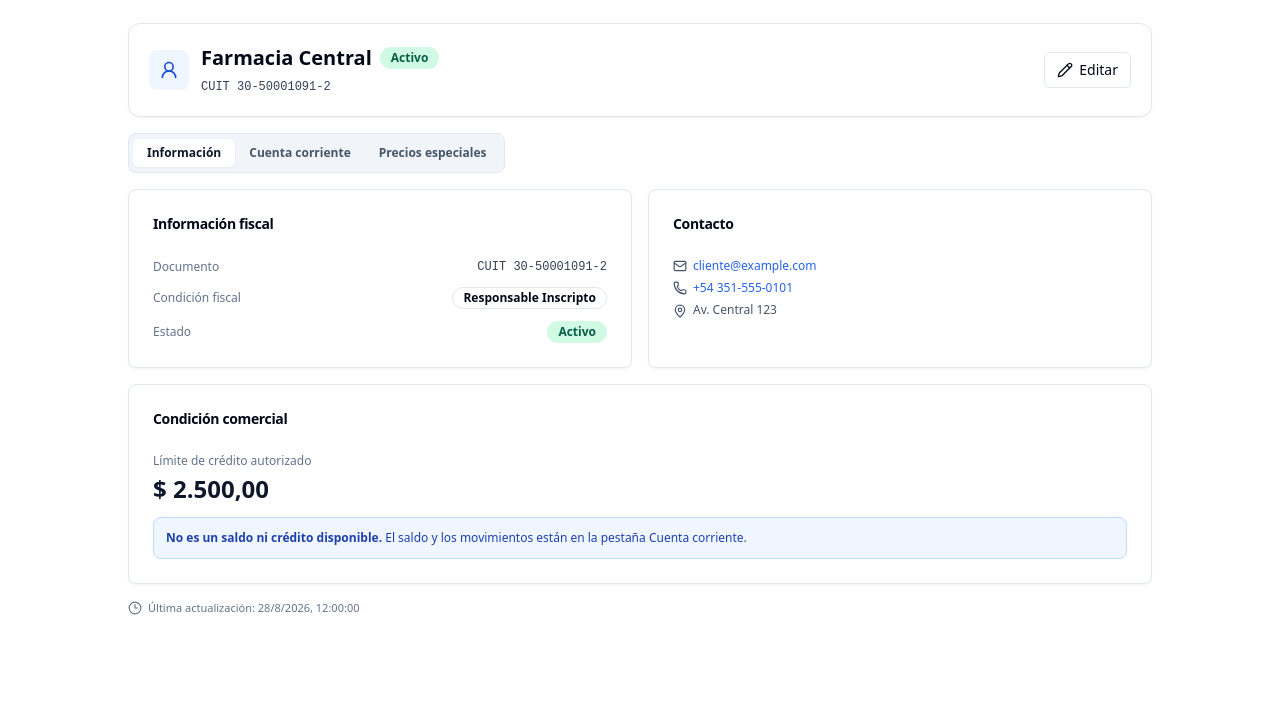
Test: CustomerDetailPage › shows the current account in its own tab, loaded on demand
expect the heading "Farmacia Central" is shown: met, box [201, 44, 372, 72]
Click the tab "Cuenta corriente".
click(300, 153)  # box [235, 139, 365, 167]
(page scrolled)
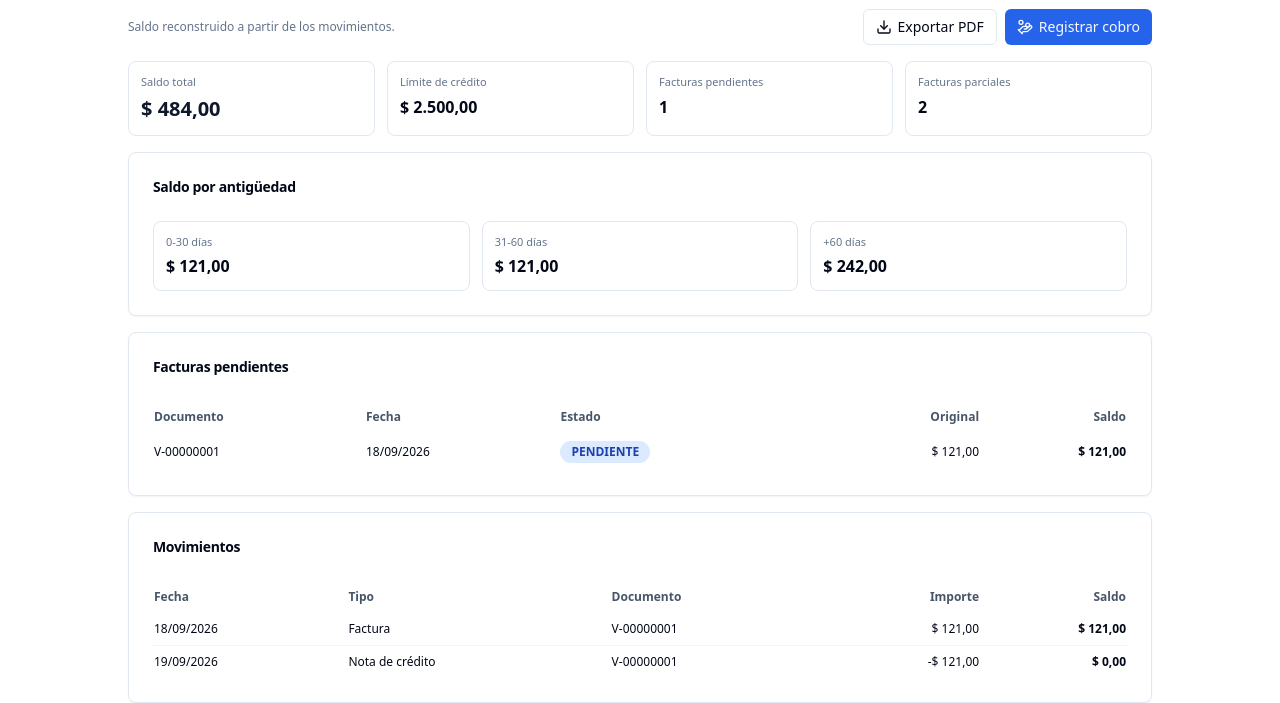
expect the text "Saldo total" is shown: met, box [141, 74, 196, 89]
expect the text "Nota de crédito" is shown: met, box [347, 645, 611, 678]
